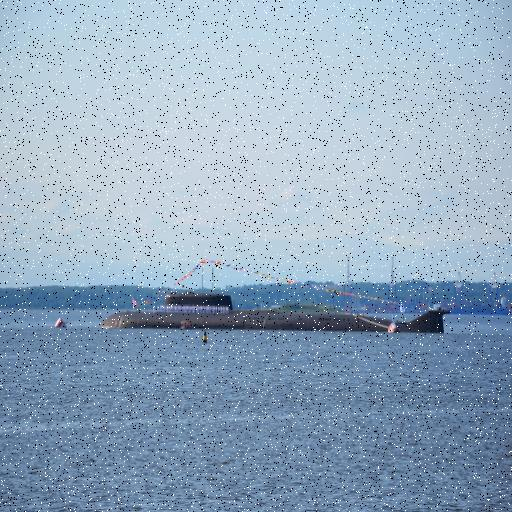submarine: (97, 291, 446, 329)
